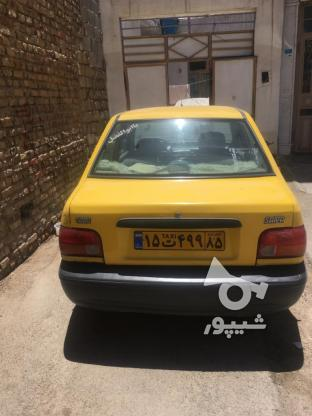car: (134, 230, 225, 252)
